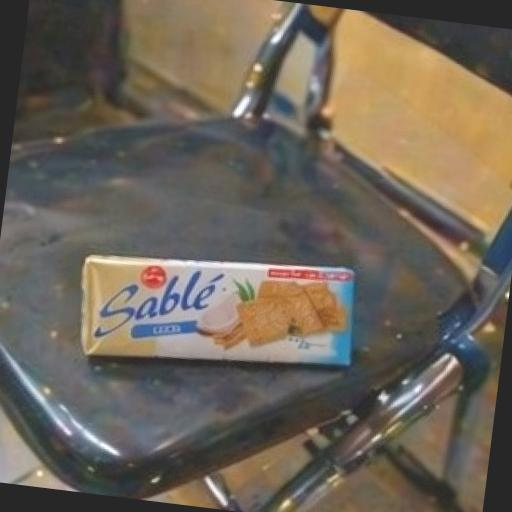sabl: (1, 168, 457, 482)
